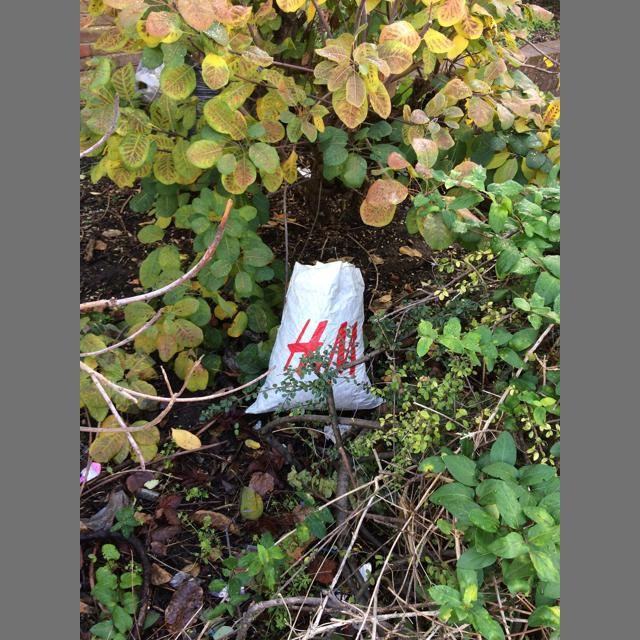litter: (244, 261, 387, 414), (80, 462, 102, 484)
